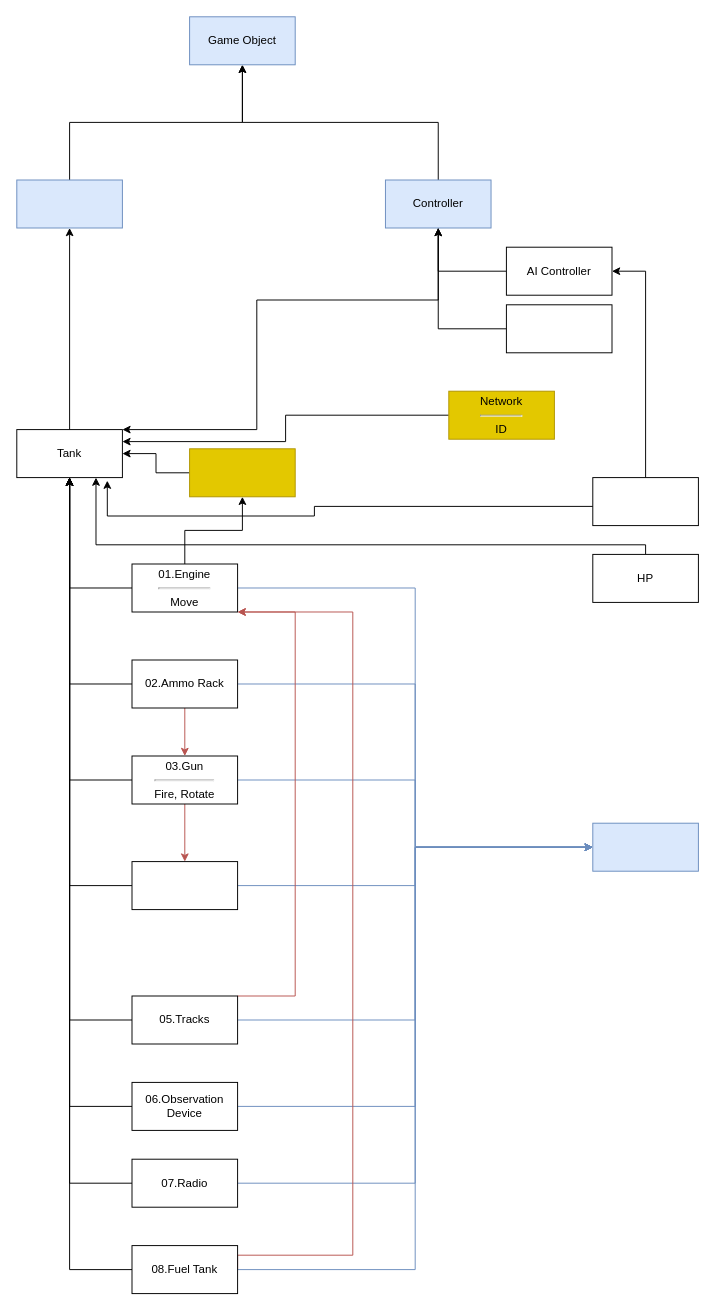
Image size: 715x1310. Some labels were removed from this diagram. The shapes that lost their labels are listed below. From the top down, each one's centre as x and y in pixels, then its label:
At point (69, 203): "Land Object".
At point (558, 328): "Player Controller".
At point (242, 472): "Rigidbody".
At point (645, 501): "Team".
At point (645, 846): "Module".
At point (184, 885): "04.Turret Rotate".
